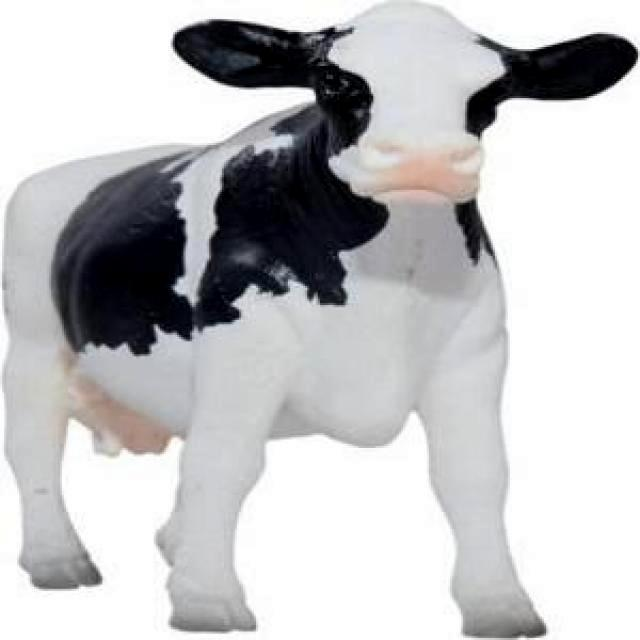COW: (4, 2, 636, 636)
